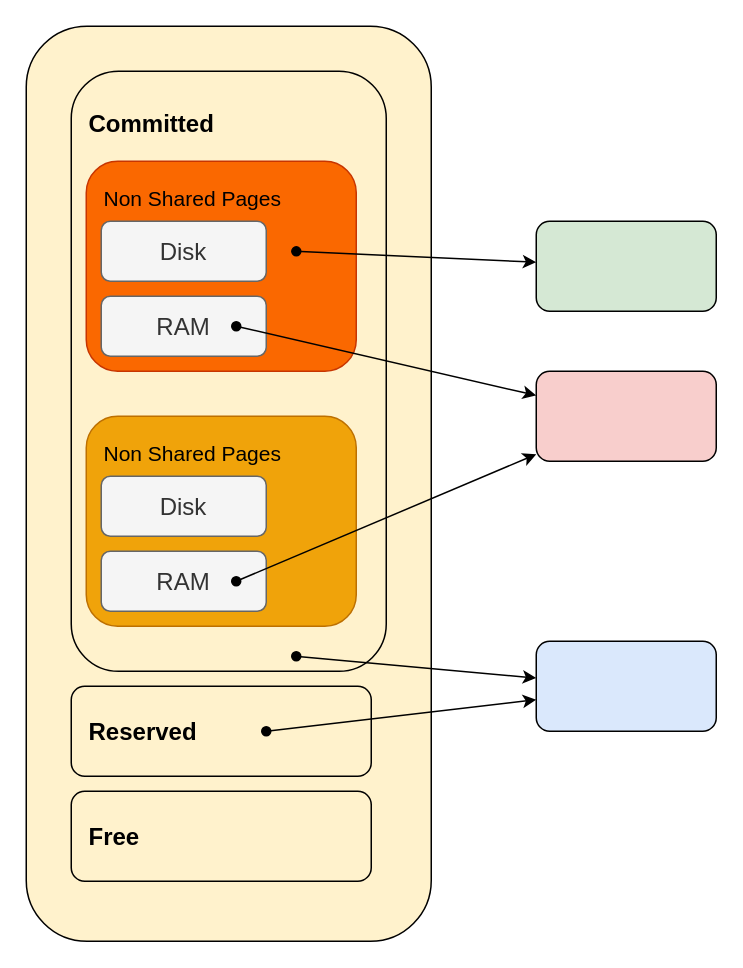
Image size: 743x968. Some labels were removed from this diagram. Each missing label, with the centre of its shape:
Private Bytes: point (625, 265)
Virtual Bytes: point (625, 685)
Working Set: point (625, 415)
